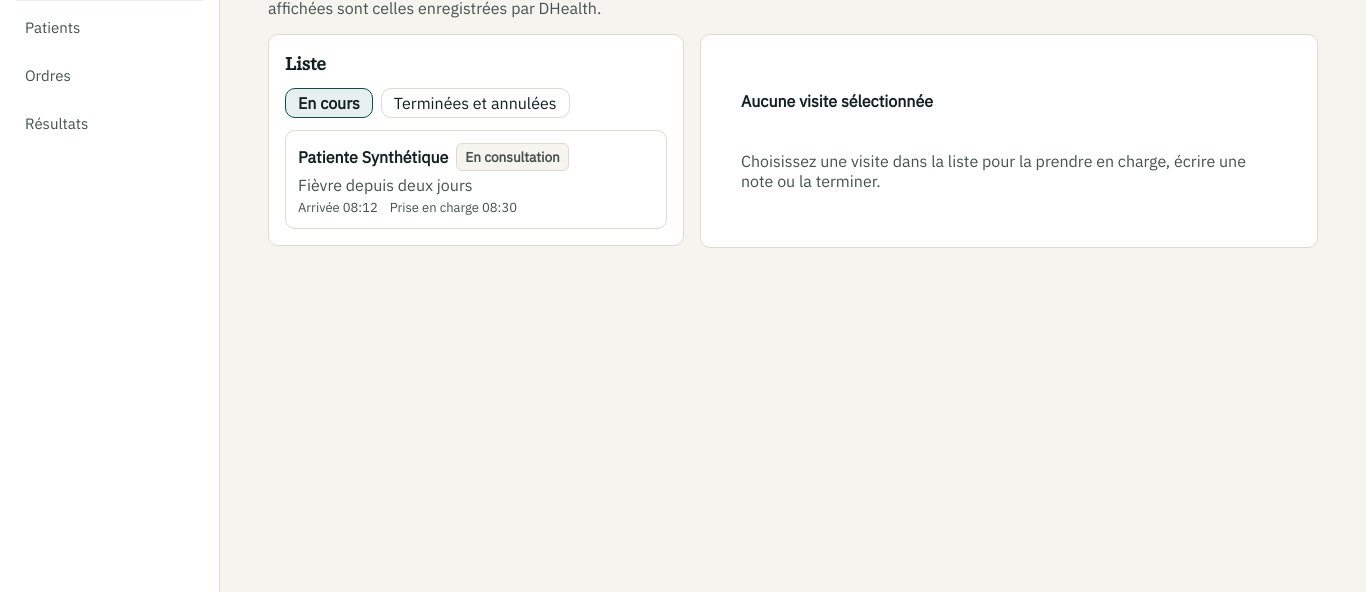
Test: Visites — the clinical note › opens the editor empty, so an append cannot be mistaken for an edit
Click the button "Patiente Synthétique".
click(373, 157)  # box x1=285 y1=130 x2=667 y2=229
(page scrolled)
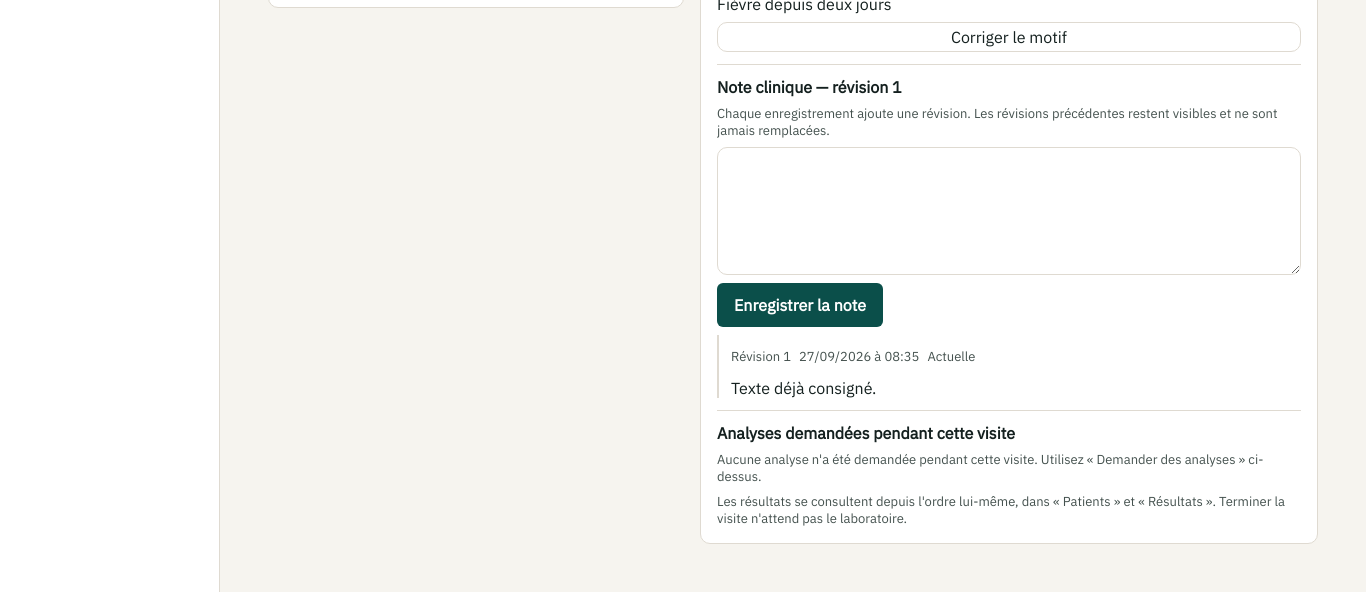
Expected: the text box labelled "Chaque enregistrement ajoute une révision" is empty, x1=717 y1=147 x2=1301 y2=275
Expected: the text "Texte déjà consigné." is shown, x1=731 y1=378 x2=876 y2=398
